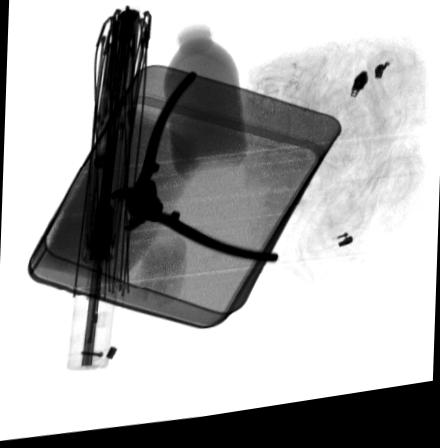Pliers: (107, 74, 280, 271)
